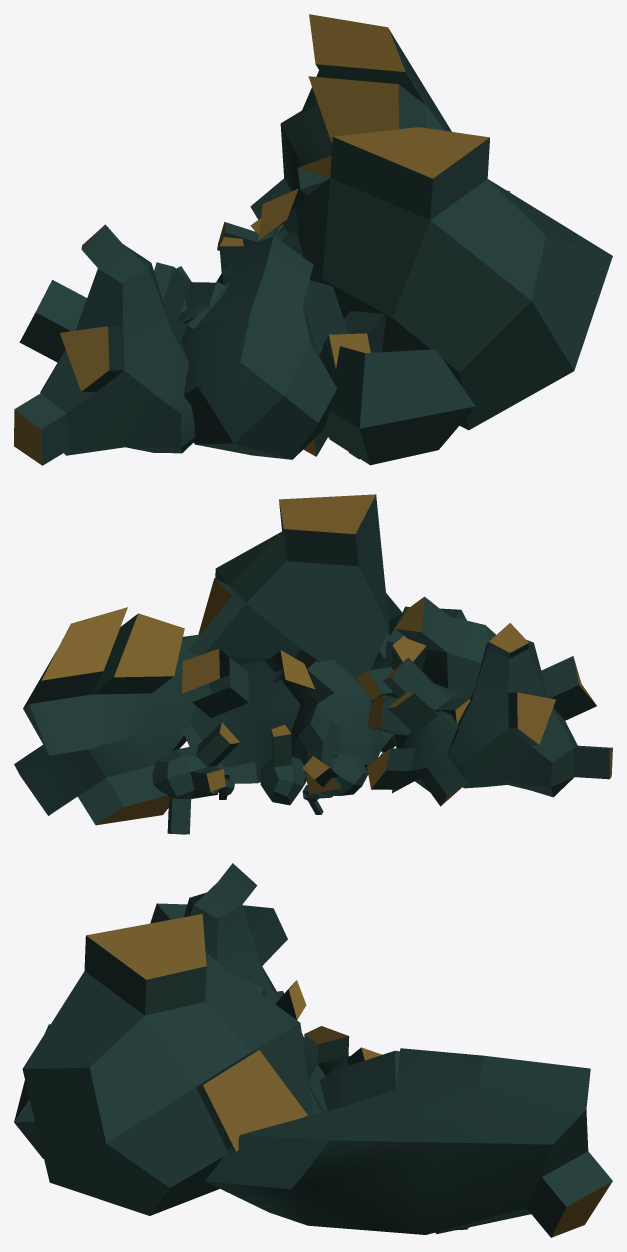
File: Boulder Corner.fbx
3 renders of one model, top to bottom at view 1: azimuth 30°, elevation 25°; view 2: azimuth 150°, elevation 25°; view 3: azimuth 270°, elevation 25°, orthographic. The views are drawn at different scales.
Visible parts, largest first — view 1: rock.009; view 2: rock.009; view 3: rock.009.
Boxes of the visible parts, x1,y1,x2,y2 form: rock.009: [14, 14, 612, 465]; rock.009: [14, 494, 612, 834]; rock.009: [14, 863, 612, 1237].
Bounding box in the file's own units: 622 × 324 × 630.
